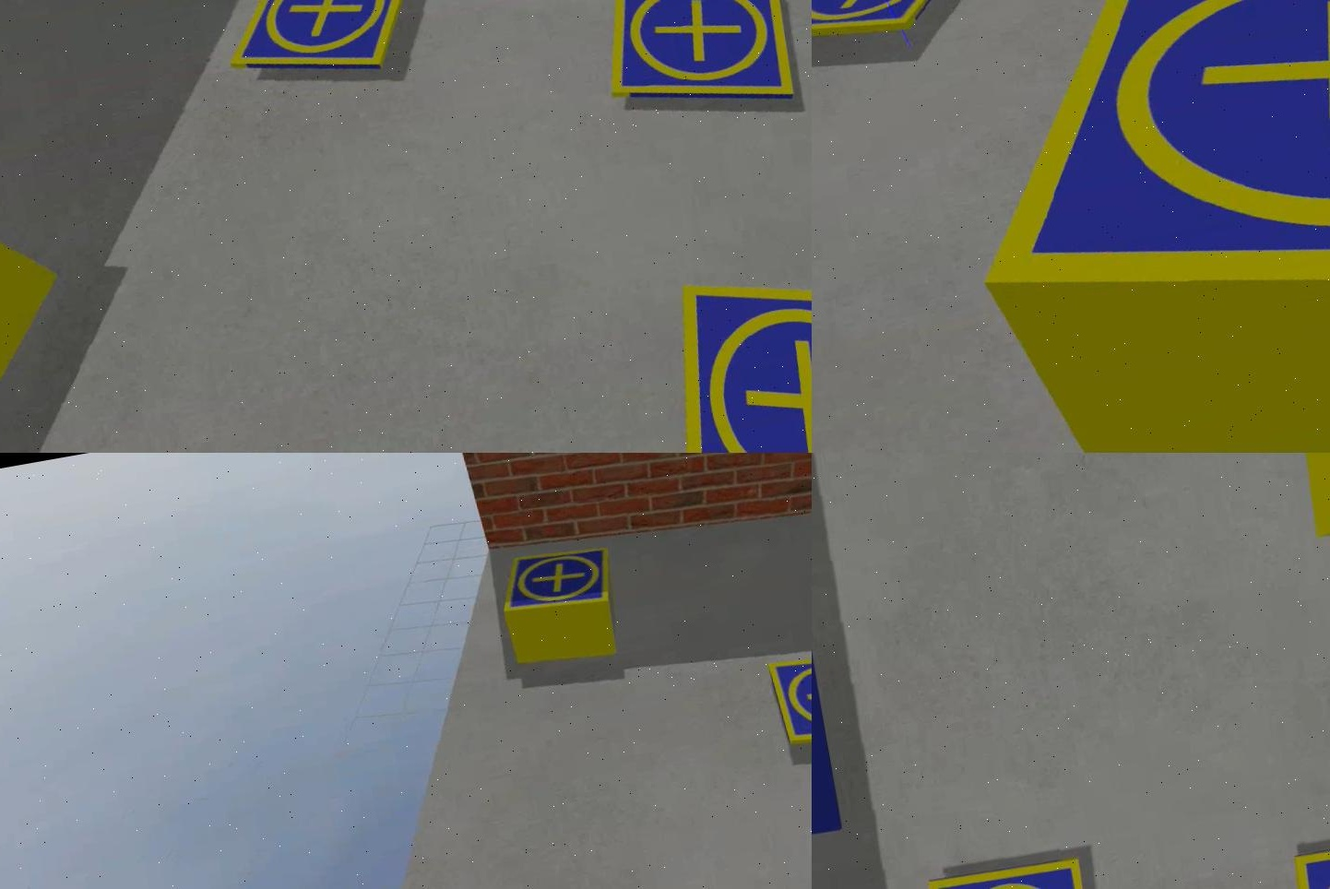small_base: (933, 1, 1328, 417), (651, 242, 810, 454), (588, 1, 800, 134), (215, 1, 429, 91), (491, 539, 616, 620), (810, 1, 979, 58), (923, 853, 1103, 889), (769, 646, 810, 756)
